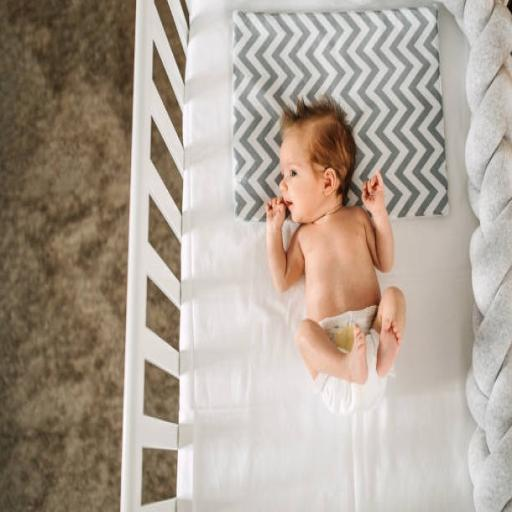baby: (267, 98, 405, 413)
crib: (122, 0, 511, 510)
